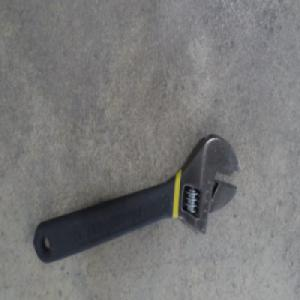AdjustableWrench: (32, 132, 241, 265)
